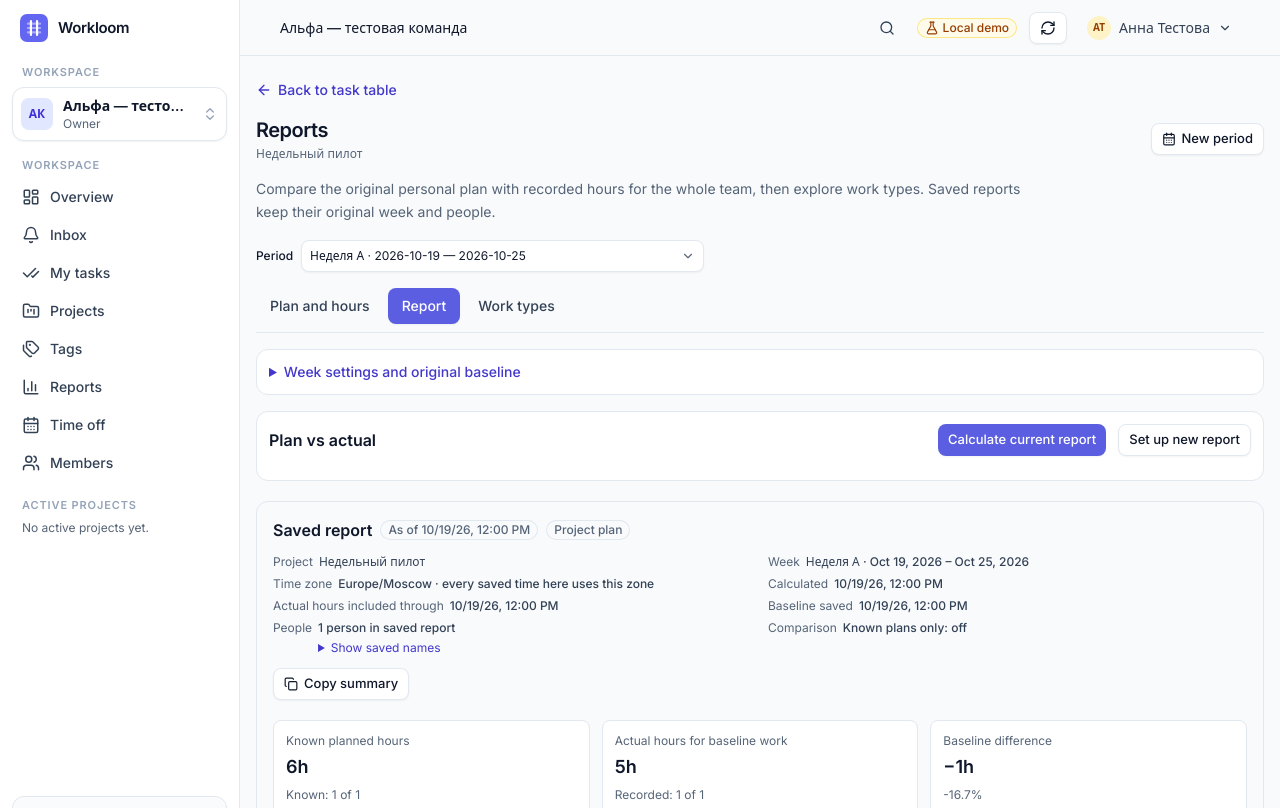
Test: weekly planning lifecycle › keeps report selection drafts through another period loading and excludes empty original cohorts from the chart
The width and height of the screenshot is (1280, 808).
What coordinates should you click on to do the following:
click the button "Set up new report"
I would click on:
 (1185, 440)
Its box is [1118,424,1251,456].
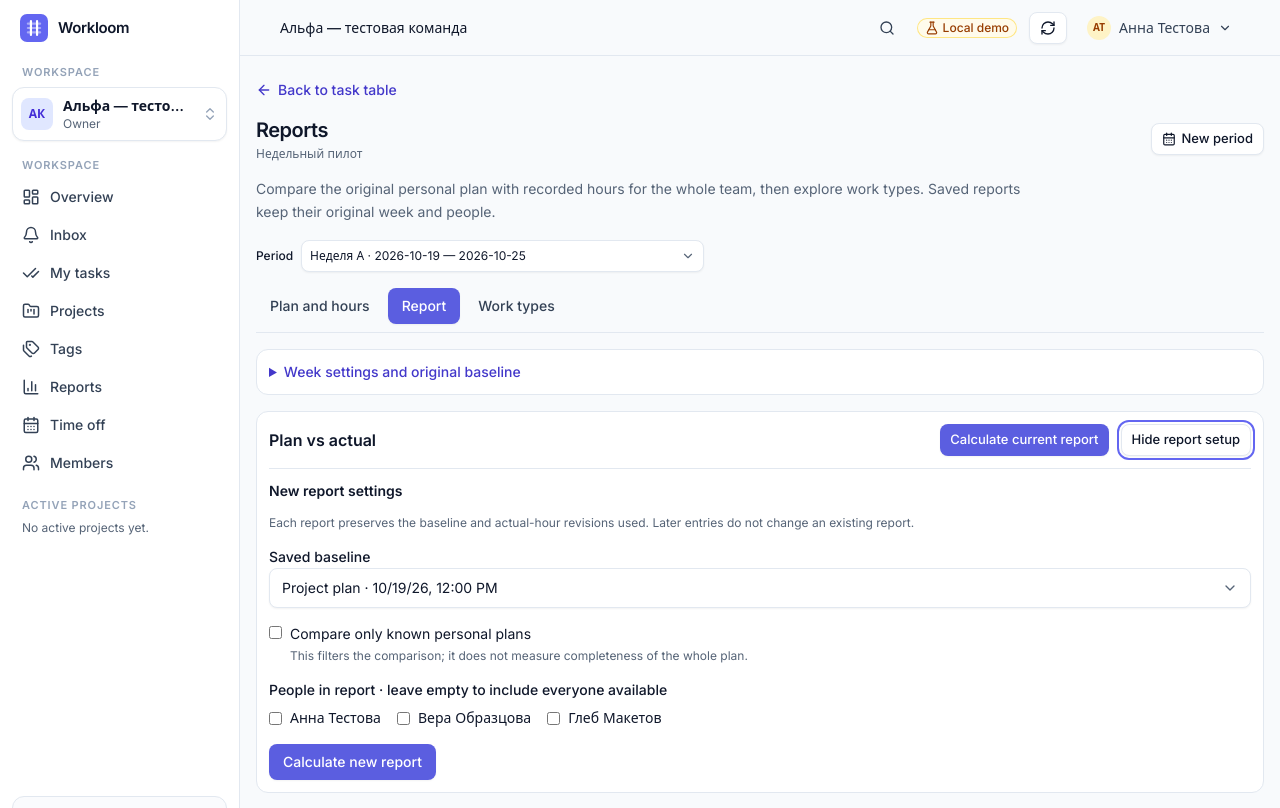
What coordinates should you click on to do the following:
click the checkbox labelled "Compare only known personal plans"
I would click on:
 (276, 632)
Its box is [269,626,282,639].
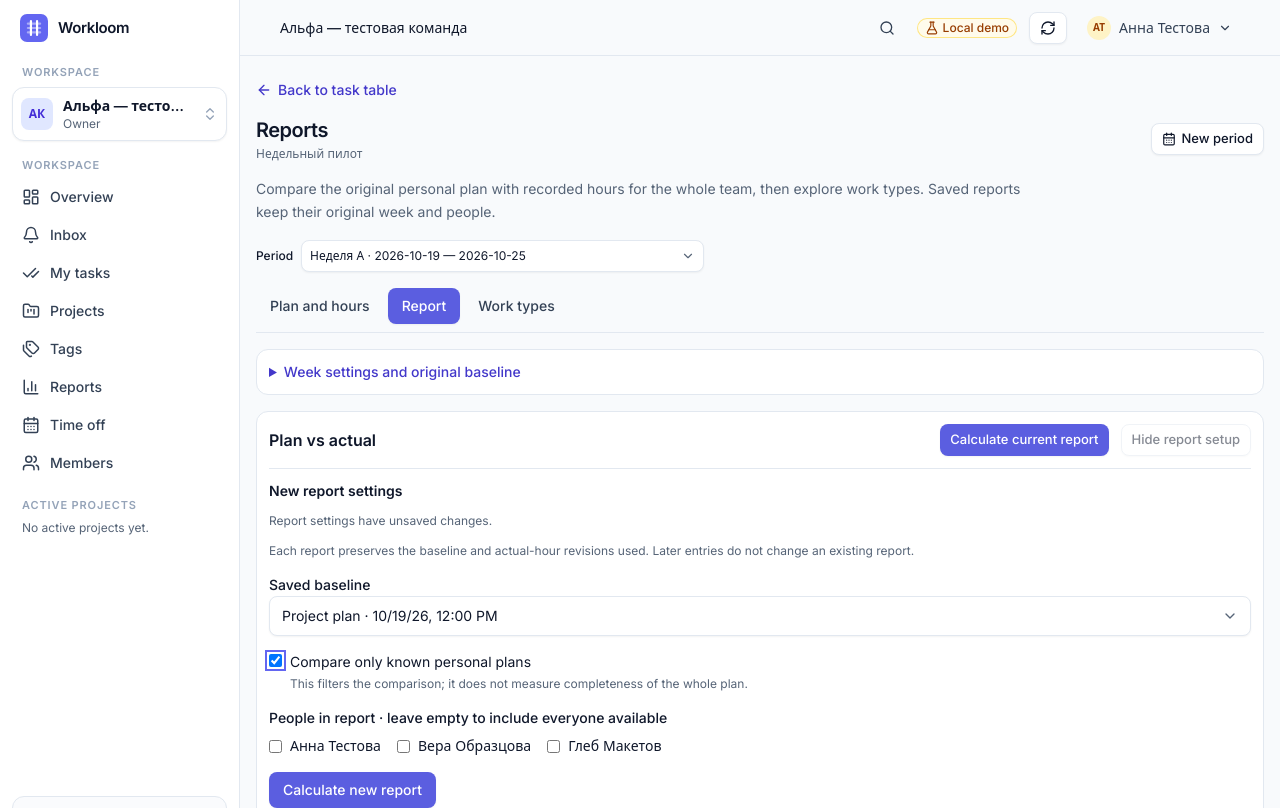
What coordinates should you click on to do the following:
click the dropdown named "Period"
I would click on:
 (503, 256)
Its box is [301,240,704,272].
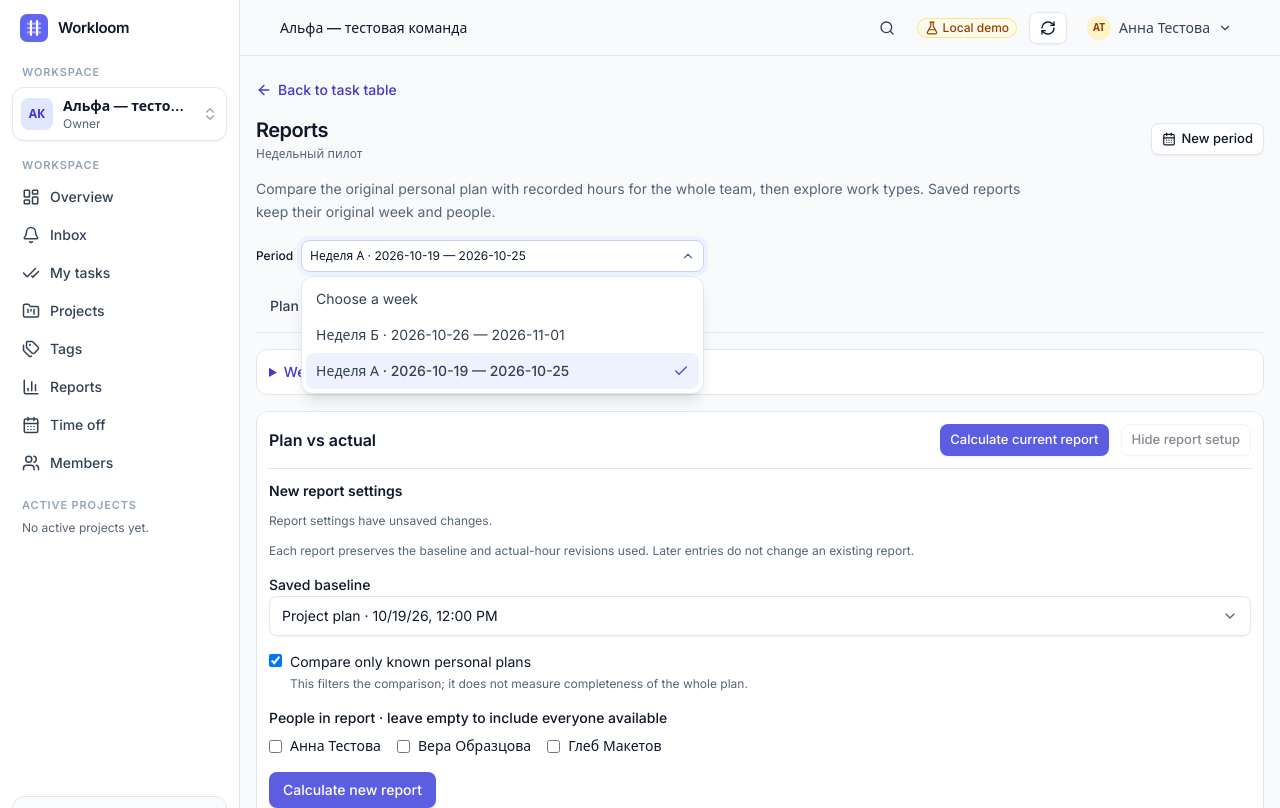
What coordinates should you click on to do the following:
click the option "Неделя Б · 2026-10-26 — 2026-11-01"
I would click on:
 (440, 334)
Its box is [316,326,565,342].
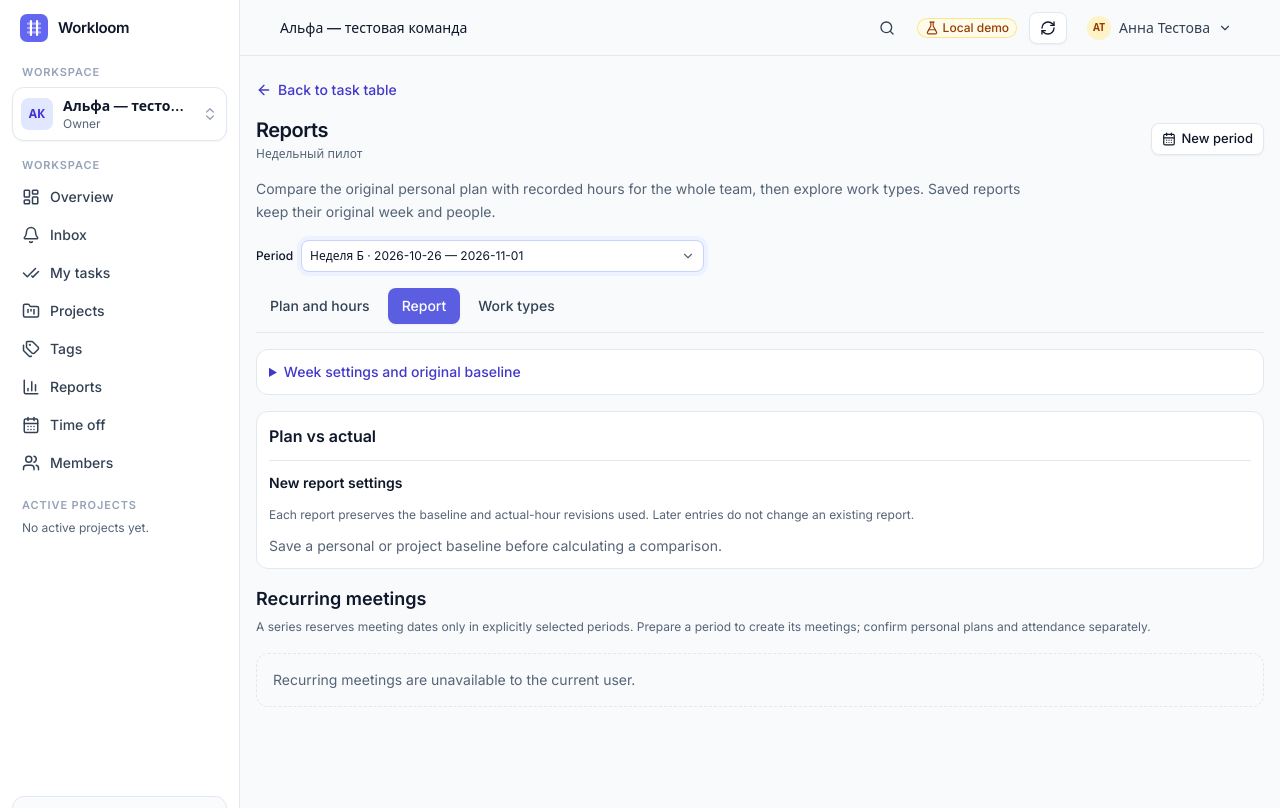
Expected: the text "Save a personal or project baseline before calculating a comparison." is shown, [269,537,722,554]
What coordinates should you click on to do the following:
click the dropdown named "Period"
I would click on:
 (503, 256)
Its box is [301,240,704,272].
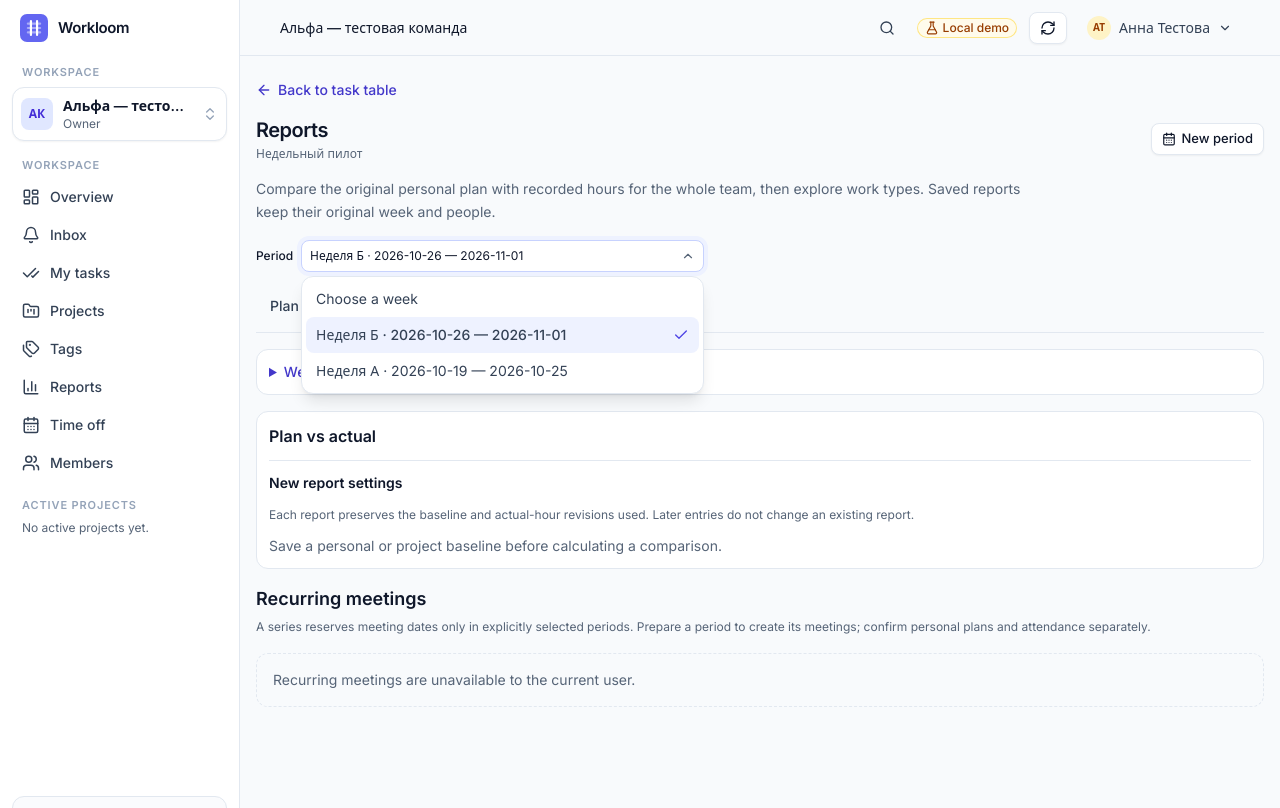
What coordinates should you click on to do the following:
click the option "Неделя А · 2026-10-19 — 2026-10-25"
I would click on:
 (442, 370)
Its box is [316,362,568,378].
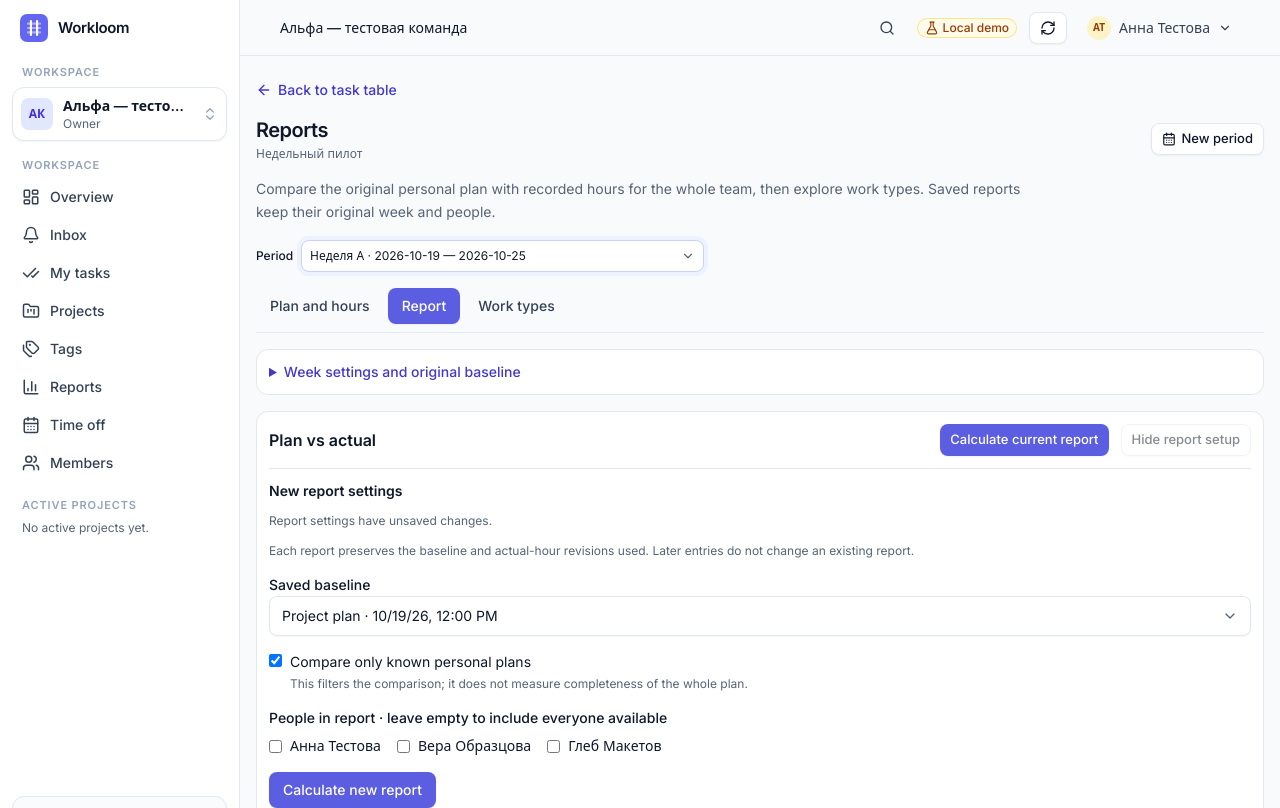
Expected: the checkbox labelled "Compare only known personal plans" is checked, [269,654,282,667]
